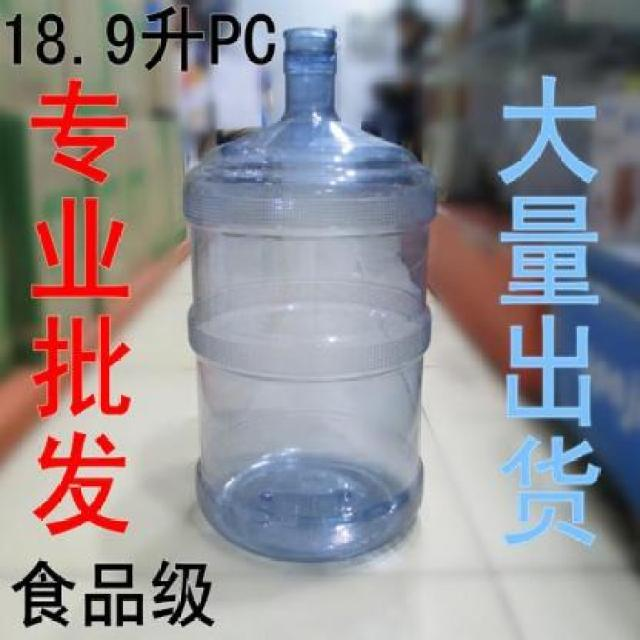coolerbottle: (178, 21, 444, 567)
